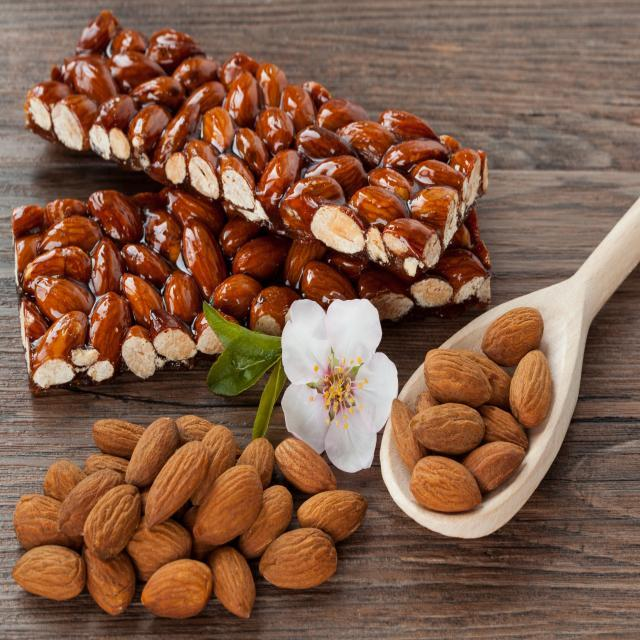Frutta secca: (20, 420, 369, 622), (392, 312, 548, 520)
